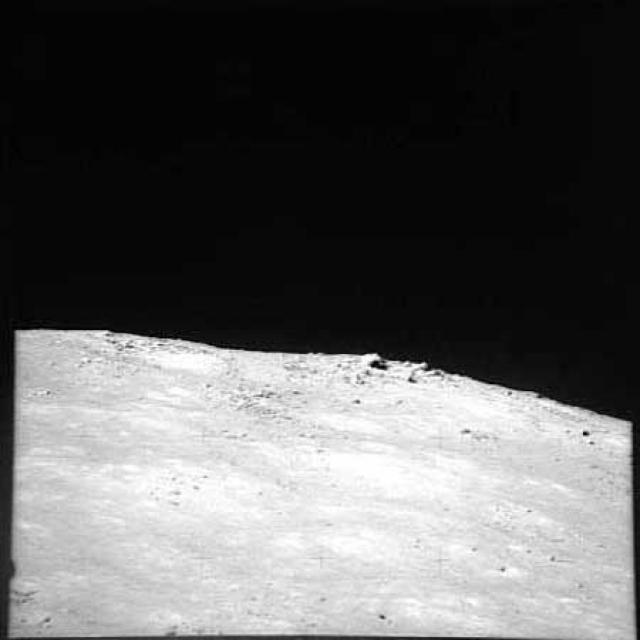rock: (348, 351, 386, 379)
